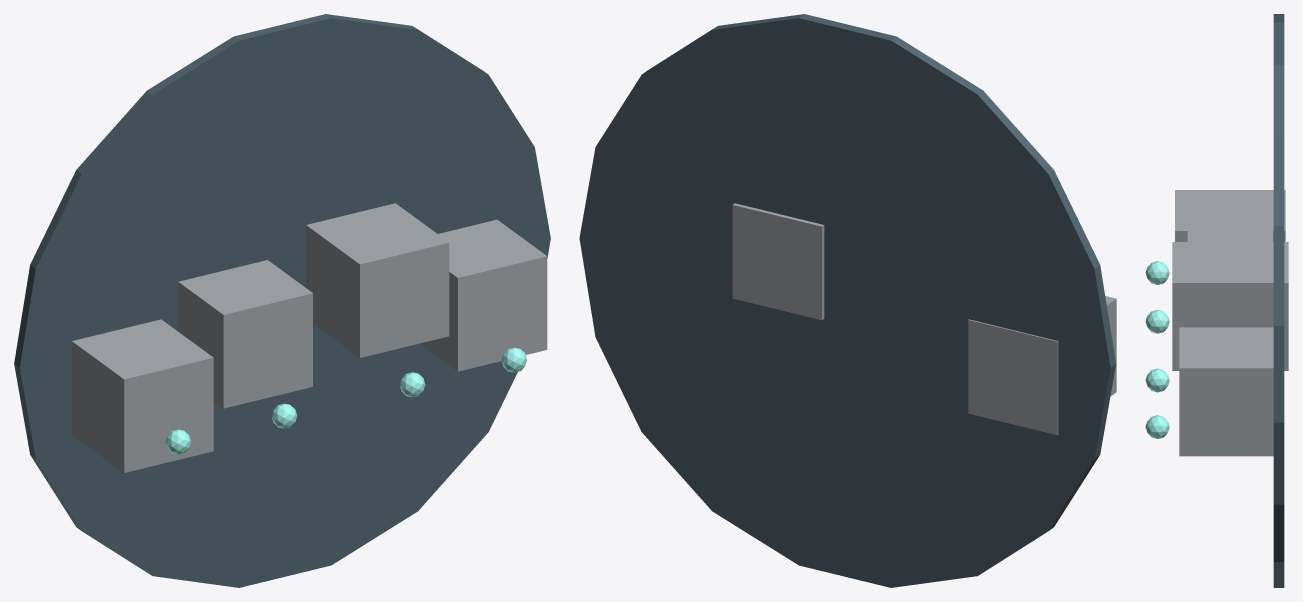
The model's file is 02_local_prop_cluster.glb.
3 views of the same model, side by side, from view 1: azimuth 30°, elevation 25°; view 2: azimuth 150°, elevation 25°; view 3: azimuth 270°, elevation 25° (orthographic). The views are drawn at different scales.
Visible parts, largest first — view 1: scatter_base, tech_crate_2, tech_crate_0, tech_crate_1, tech_crate_3; view 2: scatter_base, tech_crate_0, tech_crate_2; view 3: tech_crate_3, tech_crate_2, scatter_base, tech_crate_1, tech_crate_0, status_light_1, status_light_0, status_light_2, status_light_3.
Part boxes in pixels (<box>): scatter_base: <box>14,14,550,587</box>; tech_crate_2: <box>306,203,449,357</box>; tech_crate_0: <box>72,319,213,472</box>; tech_crate_1: <box>178,260,312,408</box>; tech_crate_3: <box>420,219,547,371</box>; scatter_base: <box>579,14,1116,587</box>; tech_crate_0: <box>968,296,1116,435</box>; tech_crate_2: <box>732,203,824,320</box>; tech_crate_3: <box>1179,327,1273,456</box>; tech_crate_2: <box>1172,242,1288,370</box>; scatter_base: <box>1273,14,1284,587</box>; tech_crate_1: <box>1187,207,1272,241</box>; tech_crate_0: <box>1175,190,1285,241</box>; status_light_1: <box>1145,309,1169,333</box>; status_light_0: <box>1145,261,1169,284</box>; status_light_2: <box>1145,368,1169,392</box>; status_light_3: <box>1145,415,1169,438</box>.
Bounding box in the file's own units: 1.9 × 1.87 × 0.4716.
